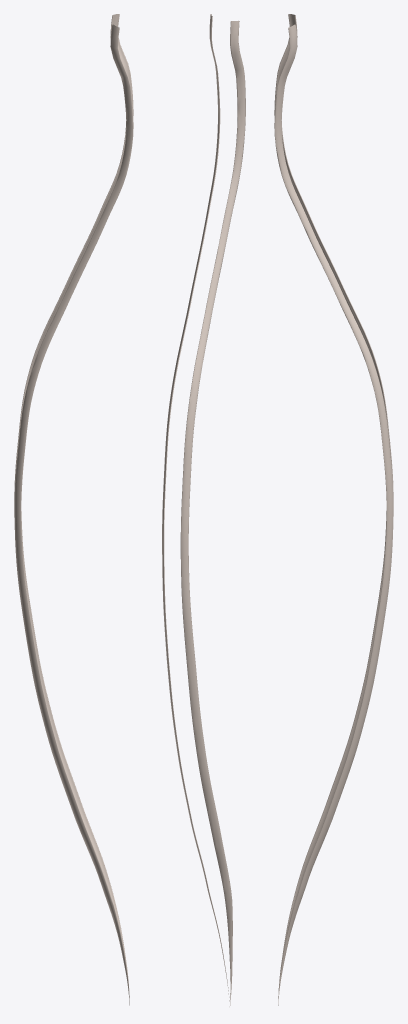
The model's file is nervoso-posterior-spinocerebellar-tract.glb.
3 views of the same model, side by side, from view 1: azimuth 90°, elevation 25°; view 2: azimuth 150°, elevation 25°; view 3: azimuth 270°, elevation 25° (orthographic).
Parts seen in each view (by area): view 1: Posterior spinocerebellar tract; view 2: Posterior spinocerebellar tract; view 3: Posterior spinocerebellar tract.
Part boxes in pixels (x1,y1,x2,y2): Posterior spinocerebellar tract: [14, 14, 133, 1005]; Posterior spinocerebellar tract: [162, 14, 245, 1006]; Posterior spinocerebellar tract: [274, 14, 393, 1005].
Bounding box in the file's own units: 0.0146 × 0.4902 × 0.0535.
